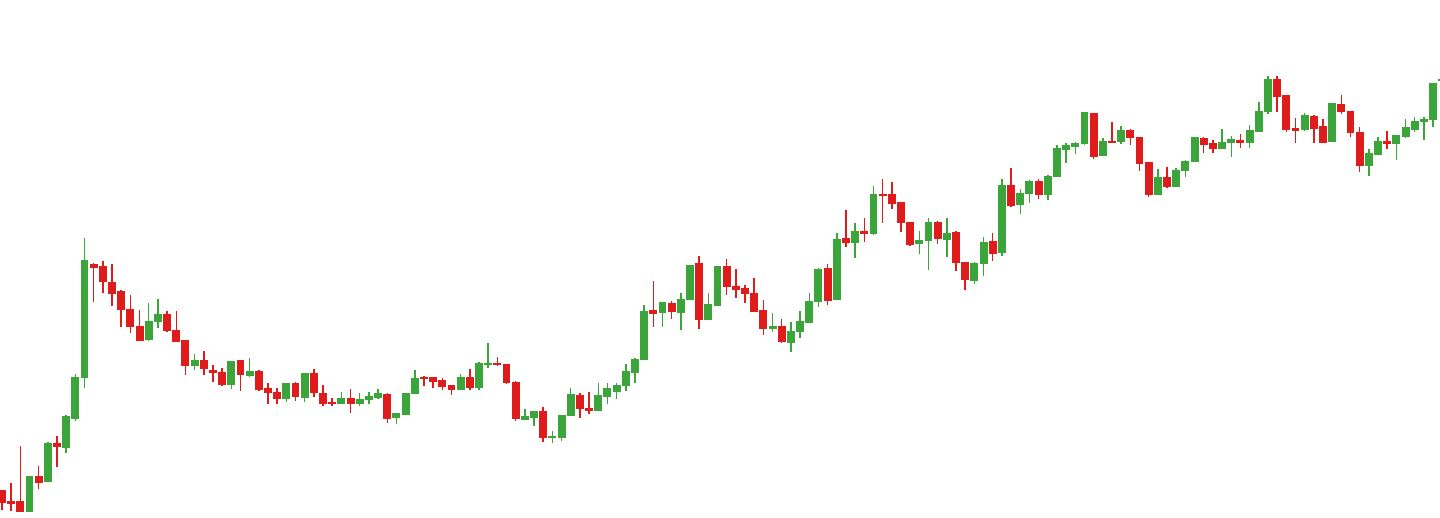buy: (673, 297, 815, 356)
